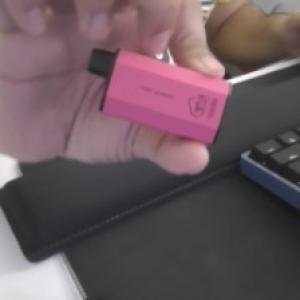Blume-E-Ciggirate: (84, 43, 235, 145)
